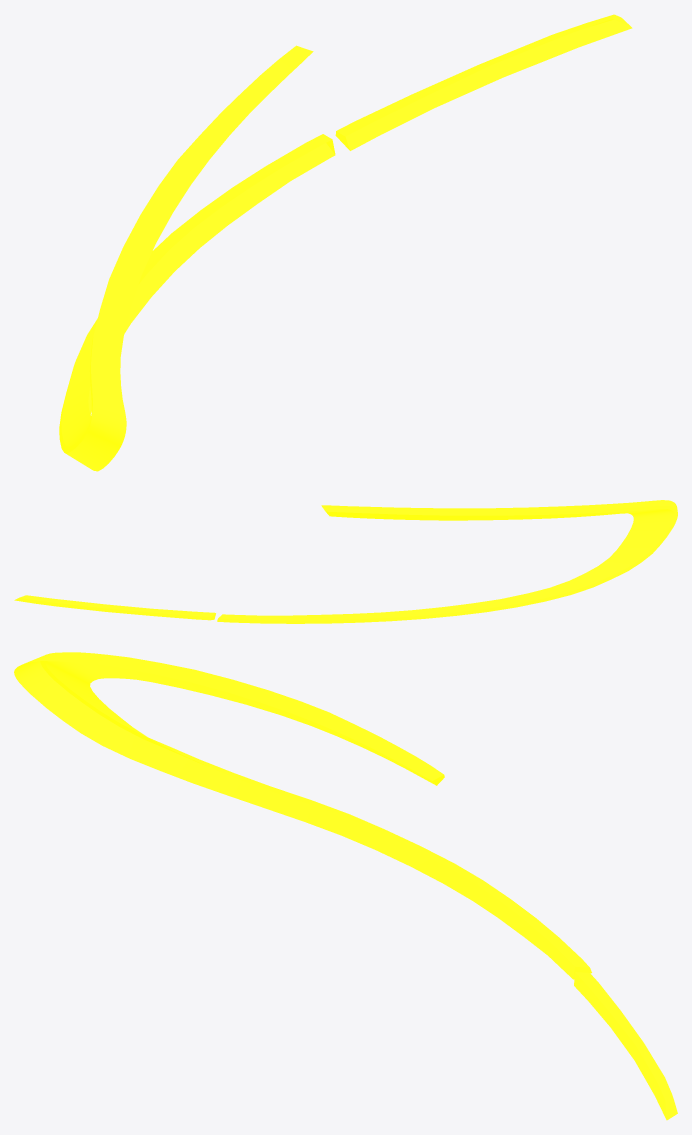
File: stonright.fbx
3 renders of one model, top to bottom at view 1: azimuth 30°, elevation 25°; view 2: azimuth 150°, elevation 25°; view 3: azimuth 270°, elevation 25°, orthographic. The views are drawn at different scales.
Visible parts, largest first — view 1: alwaysOn; view 2: alwaysOn; view 3: alwaysOn.
Part boxes in pixels (x1,y1,x2,y2): alwaysOn: (59,14,632,471); alwaysOn: (14,500,677,623); alwaysOn: (14,652,677,1120).
Size of the model in its own units: 57.83 by 11.84 by 44.44.
